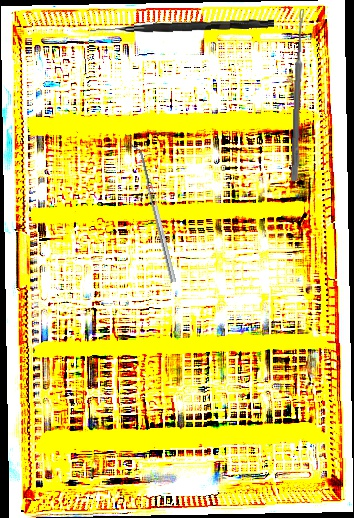Hook Surgical: (89, 17, 275, 37)
Spatula Surgical: (130, 141, 177, 285)
Surgical Spoon: (291, 8, 305, 182)
